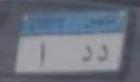1: (35, 43, 48, 67)
daal: (96, 41, 109, 64), (82, 43, 94, 62)
